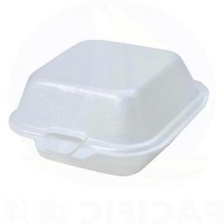foam_box: (5, 34, 213, 180)
